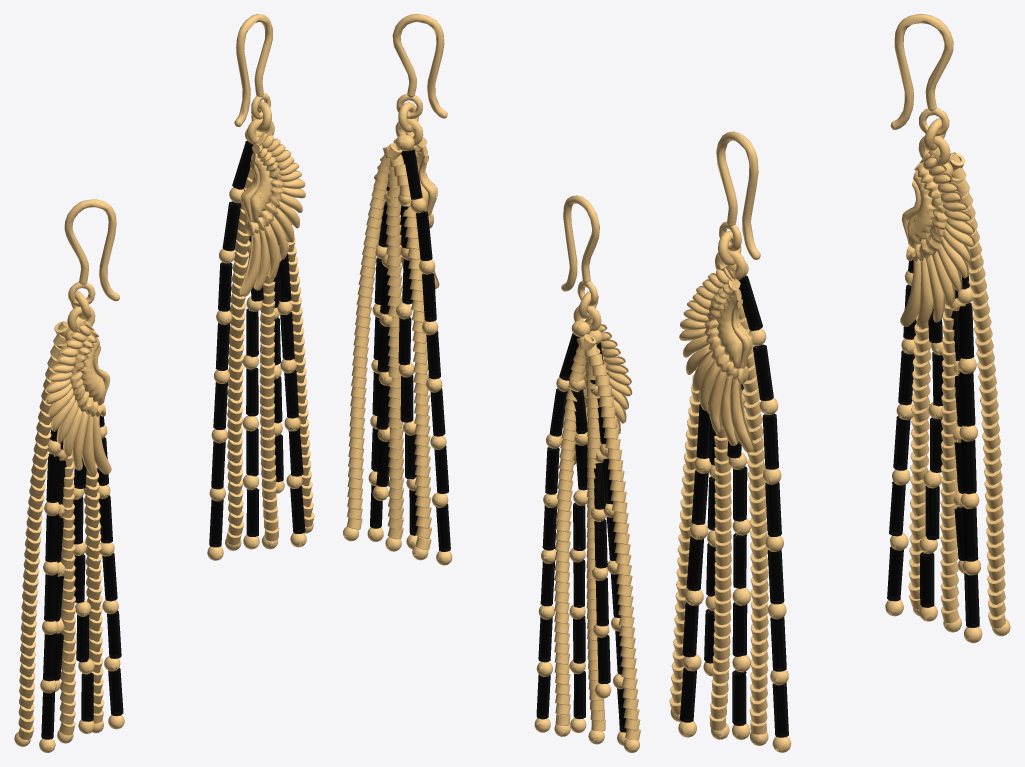
Rendered from simurg-earrings_compressed.glb.
3 views of the same model, side by side, from view 1: azimuth 30°, elevation 25°; view 2: azimuth 150°, elevation 25°; view 3: azimuth 330°, elevation 25° (orthographic). The views are drawn at different scales.
Parts seen in each view (by area): view 1: Mesh_1.014; view 2: Mesh_1.014; view 3: Mesh_1.014.
Part boxes in pixels (left/top/right/bottom): Mesh_1.014: left=14, top=14, right=314, bottom=752; Mesh_1.014: left=343, top=14, right=640, bottom=752; Mesh_1.014: left=669, top=14, right=1010, bottom=752.
Bounding box in the file's own units: 38.46 × 84.89 × 5.18.
